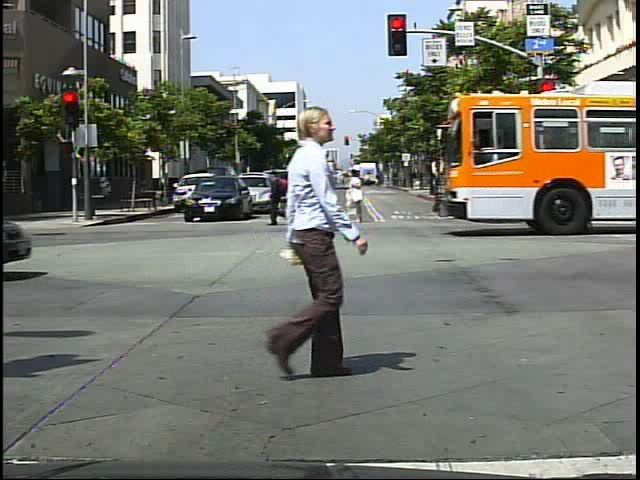person: (228, 89, 369, 389), (265, 164, 298, 236), (269, 167, 298, 228), (345, 164, 368, 217), (551, 160, 574, 211)
